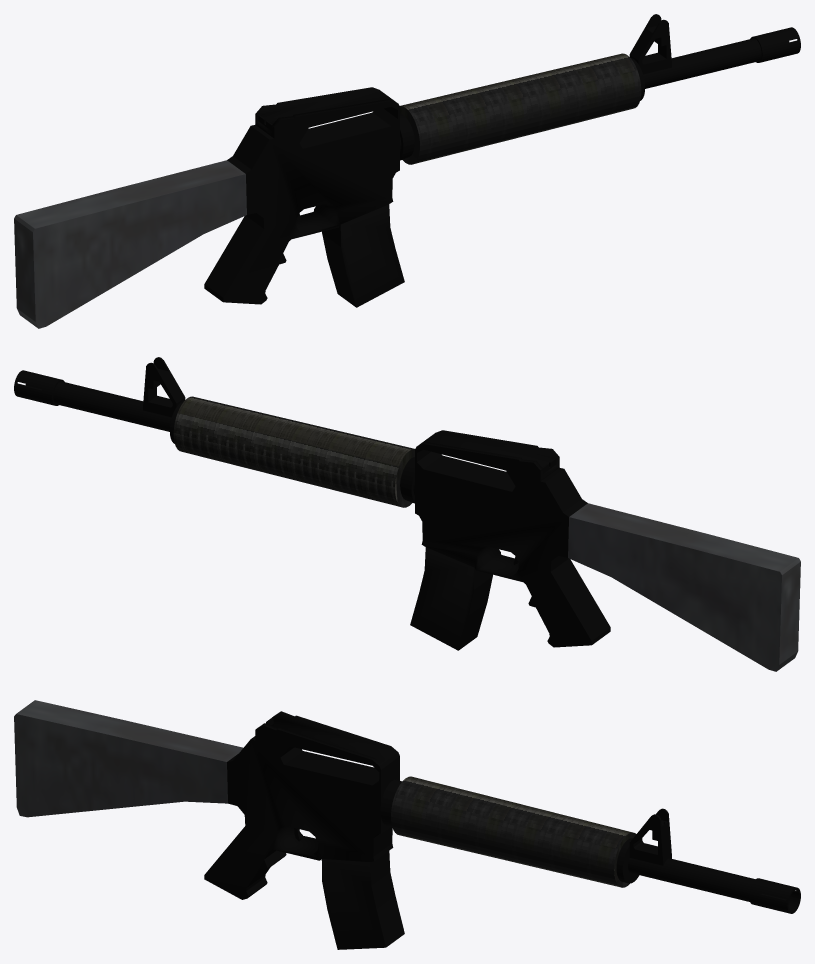
Rendered from M16A2_Исправлен.fbx.
The picture shows the model from 3 angles, top to bottom: view 1: azimuth 30°, elevation 25°; view 2: azimuth 150°, elevation 25°; view 3: azimuth 330°, elevation 25°; orthographic projection.
Parts seen in each view (by area): view 1: Plane.001, Plane.004, Cylinder.002, Plane.005, Cylinder.003, Plane, Cylinder.004; view 2: Plane.001, Plane.004, Cylinder.002, Plane.005, Cylinder.003, Plane, Cylinder.004; view 3: Plane.001, Plane.004, Cylinder.002, Plane.005, Cylinder.003, Plane, Cylinder.004, Cylinder.005, Cylinder.
Part boxes in pixels (left/top/right/bottom): Plane.001: left=204, top=87, right=399, bottom=304; Plane.004: left=14, top=160, right=246, bottom=328; Cylinder.002: left=400, top=53, right=641, bottom=164; Plane.005: left=322, top=204, right=404, bottom=307; Cylinder.003: left=643, top=38, right=761, bottom=88; Plane: left=629, top=14, right=671, bottom=74; Cylinder.004: left=750, top=27, right=800, bottom=62; Plane.001: left=415, top=430, right=610, bottom=647; Plane.004: left=568, top=503, right=800, bottom=671; Cylinder.002: left=173, top=396, right=414, bottom=507; Plane.005: left=410, top=547, right=492, bottom=650; Cylinder.003: left=53, top=381, right=171, bottom=431; Plane: left=143, top=357, right=185, bottom=417; Cylinder.004: left=14, top=370, right=64, bottom=405; Plane.001: left=204, top=711, right=399, bottom=899; Plane.004: left=14, top=700, right=243, bottom=817; Cylinder.002: left=391, top=776, right=636, bottom=887; Plane.005: left=321, top=851, right=404, bottom=949; Cylinder.003: left=628, top=858, right=763, bottom=901; Plane: left=629, top=808, right=671, bottom=865; Cylinder.004: left=749, top=878, right=800, bottom=913; Cylinder.005: left=616, top=838, right=639, bottom=883; Cylinder: left=380, top=779, right=401, bottom=826.
Bounding box in the file's own units: 2350 × 604 × 154.
12 materials, 2 textured.
